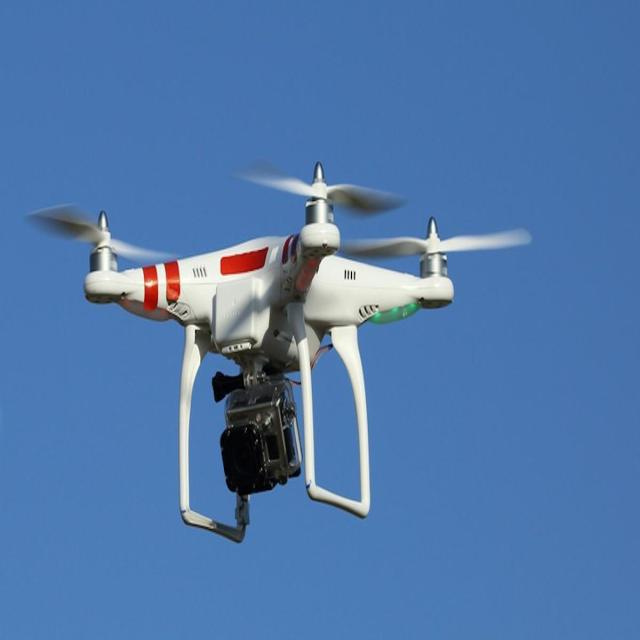drone: (82, 157, 454, 544)
